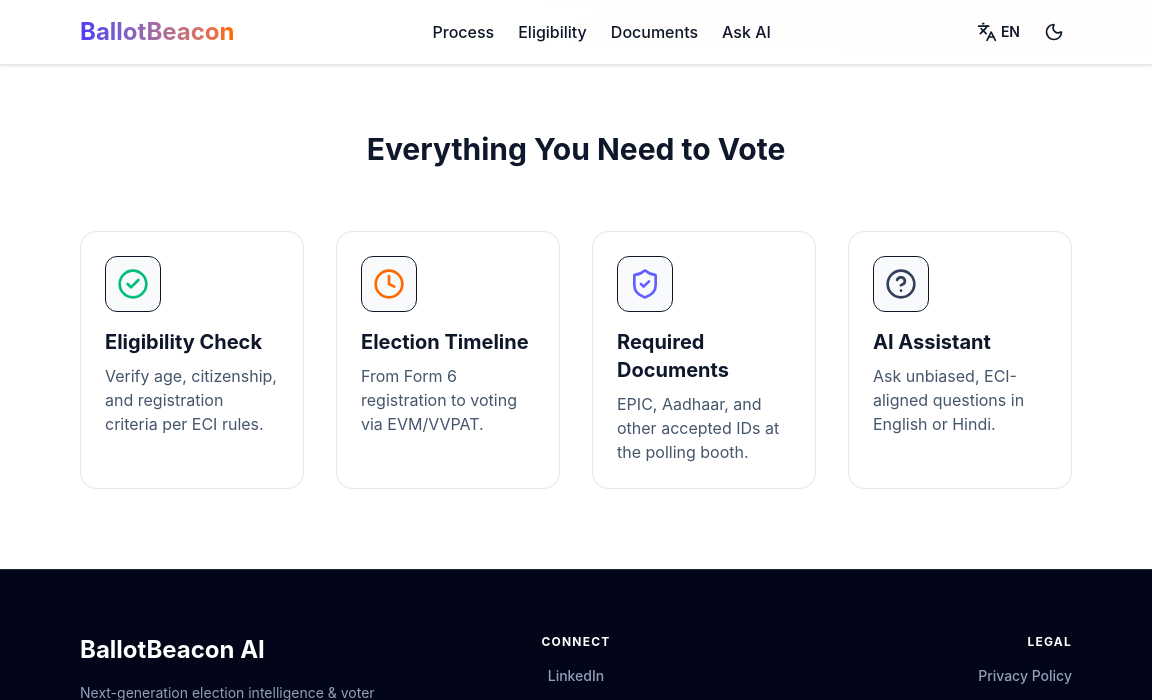
it: App Integration Flows › navigates from home to eligibility page
The image size is (1152, 700).
(page scrolled)
# Wait for home page to load (it's lazy loaded)
Click the link "Eligibility Check".
click(192, 360)  # box [80,231,304,489]
(page scrolled)
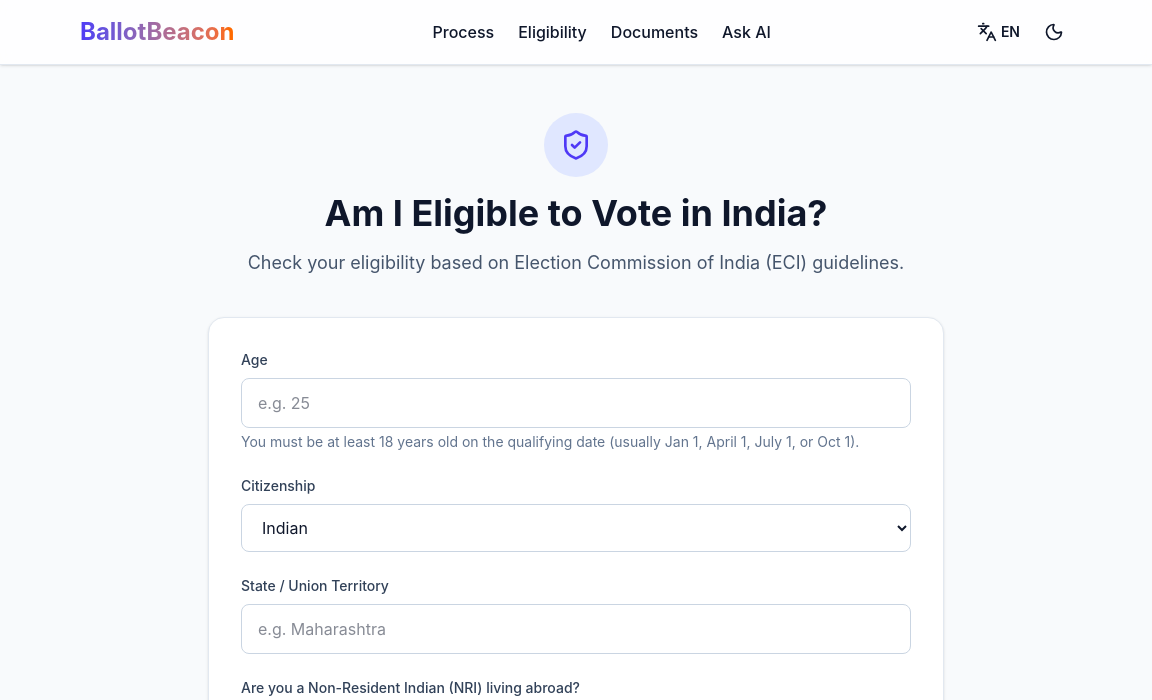
Expected: the heading "Am I Eligible to Vote in India?" is shown, [324,191,827,235]
